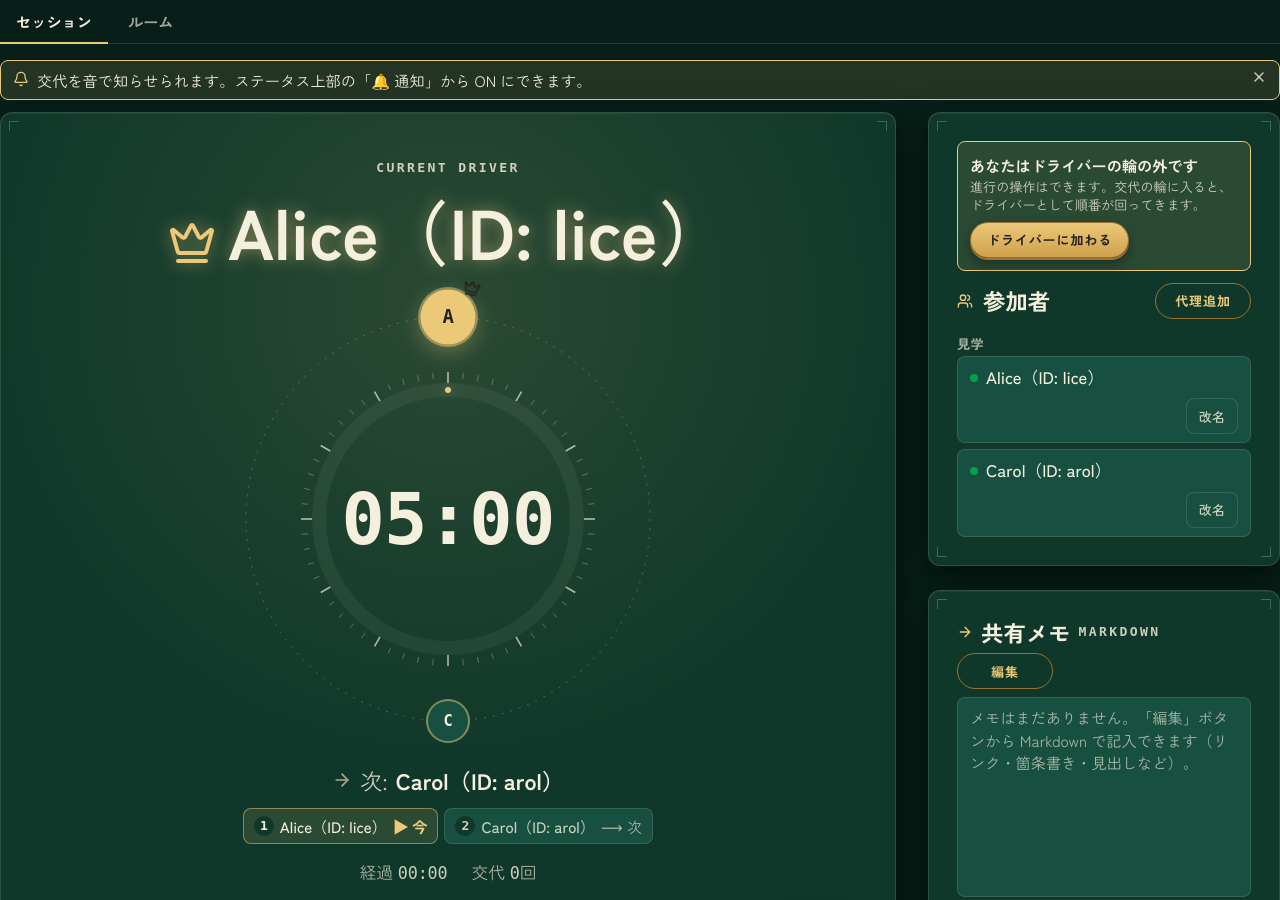
Scenario: Session の「ルーム」タブ（招待は共通の見出しへ移った） › 「ルーム」タブにパスフレーズの設定は残る
Click the tab "ルーム" at coordinates (151, 22), box left=112, top=0, right=190, bottom=44
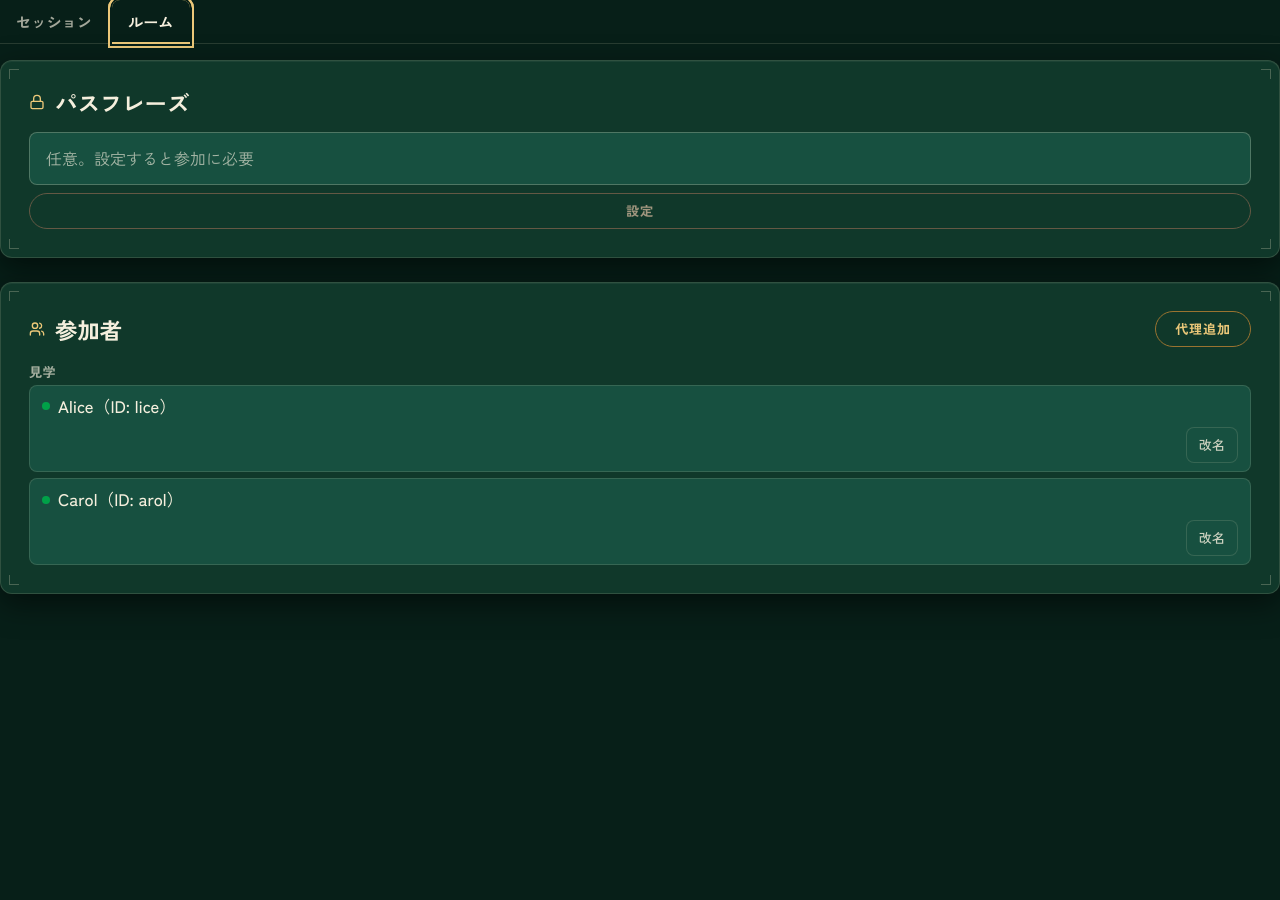
Expected: the heading "パスフレーズ" is shown, left=55, top=89, right=189, bottom=116
